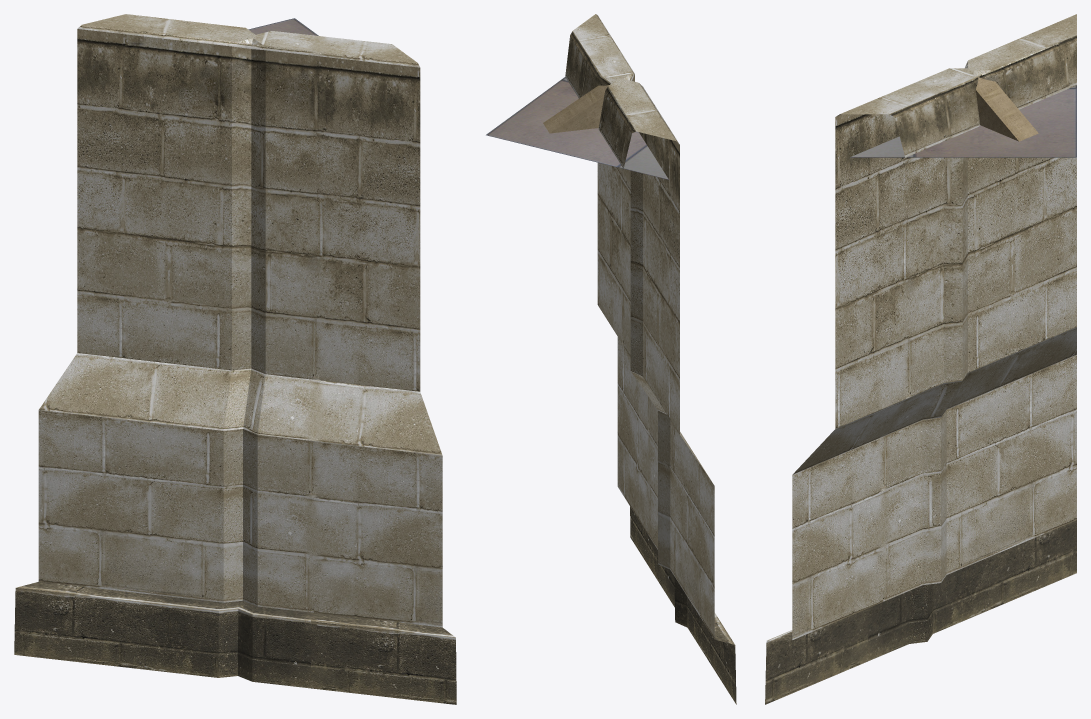
Rendered from castle-wall-45d-3.fbx.
The picture shows the model from 3 angles, left to right: view 1: azimuth 30°, elevation 25°; view 2: azimuth 150°, elevation 25°; view 3: azimuth 270°, elevation 25°; orthographic projection. The views are drawn at different scales.
Visible parts, largest first — view 1: castle-wall-45d-3; view 2: castle-wall-45d-3; view 3: castle-wall-45d-3.
Boxes of the visible parts, x1,y1,x2,y2 form: castle-wall-45d-3: (14,14,456,704); castle-wall-45d-3: (486,14,736,704); castle-wall-45d-3: (765,14,1076,704).
Size of the model in its own units: 191 by 400 by 191.
